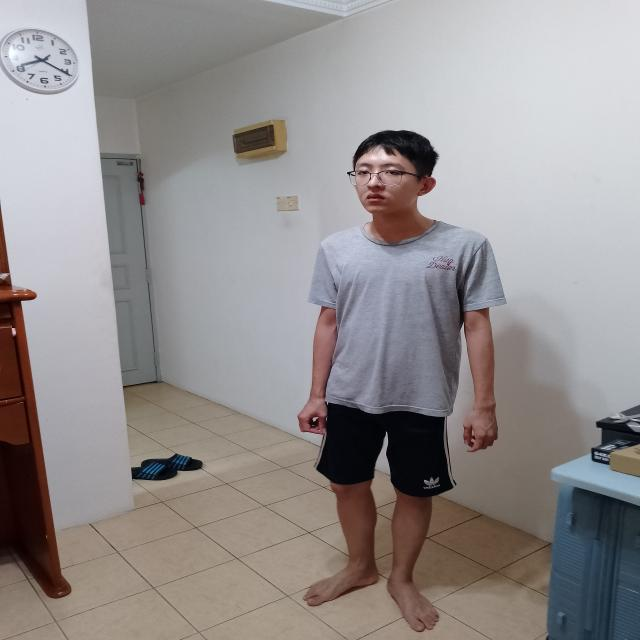person_without_labcoat: (298, 131, 505, 631)
